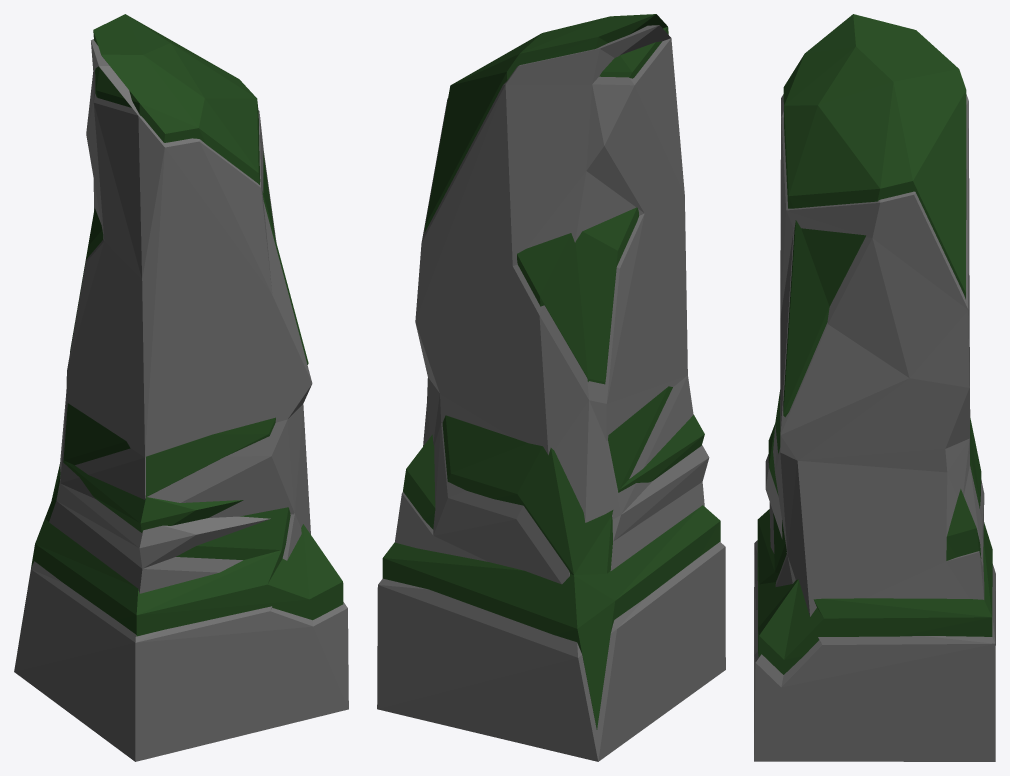
Rendered from SM_pillar_jungle_06.fbx.
The picture shows the model from 3 angles, left to right: view 1: azimuth 30°, elevation 25°; view 2: azimuth 150°, elevation 25°; view 3: azimuth 270°, elevation 25°; orthographic projection. The views are drawn at different scales.
Parts seen in each view (by area): view 1: Object058; view 2: Object058; view 3: Object058.
Part boxes in pixels (x1=…): Object058: x1=14, y1=14, x2=348, y2=761; Object058: x1=377, y1=14, x2=725, y2=761; Object058: x1=754, y1=14, x2=995, y2=761.
Bounding box in the file's own units: 35.97 × 107 × 35.98.
